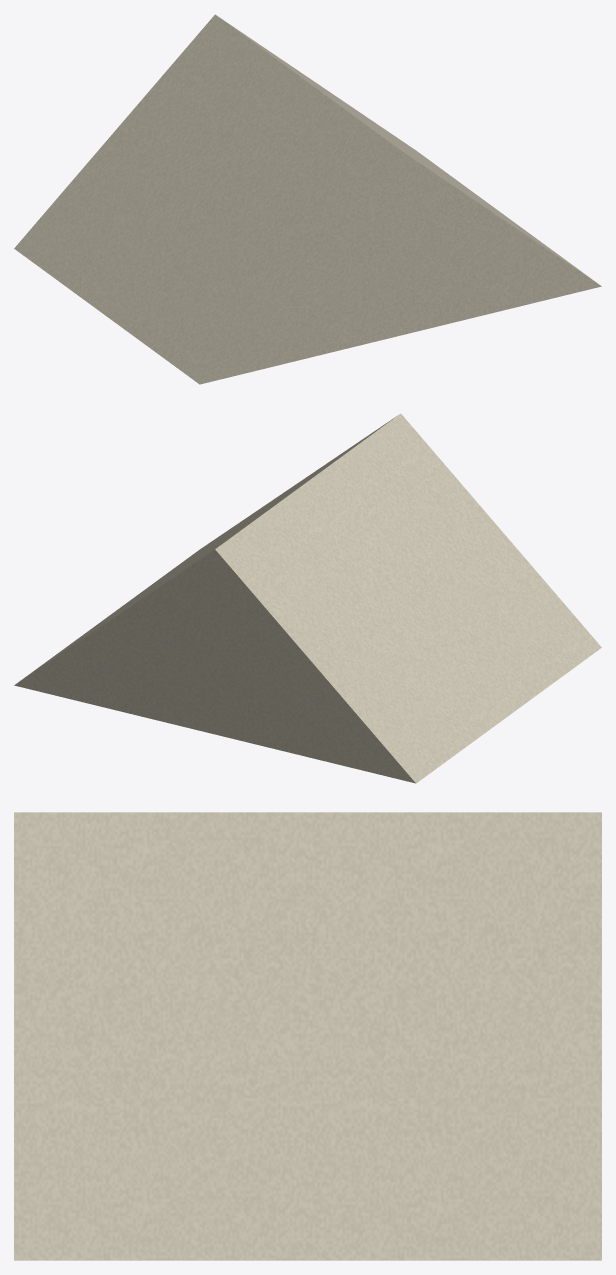
File: rock-outcrop.glb
The picture shows the model from 3 angles, top to bottom: view 1: azimuth 30°, elevation 25°; view 2: azimuth 150°, elevation 25°; view 3: azimuth 270°, elevation 25°; orthographic projection. The views are drawn at different scales.
Size of the model in its own units: 5 by 2.2 by 4.
1 material, 1 textured.
